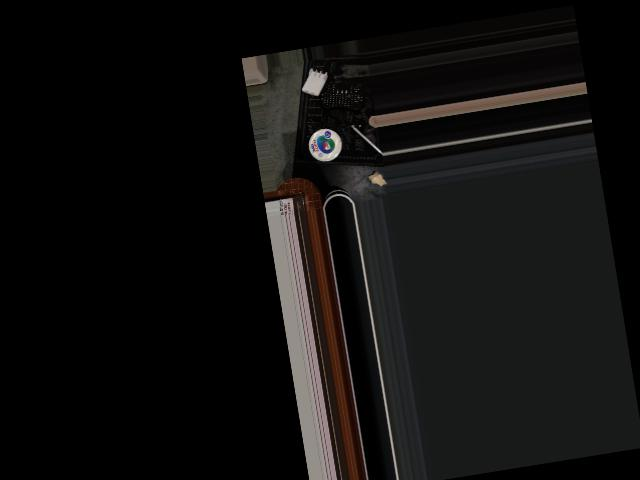cotage: (299, 124, 345, 166)
